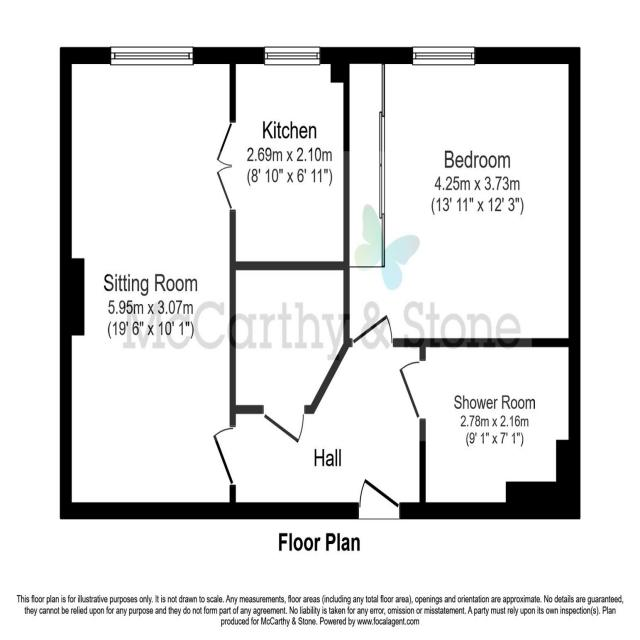DOOR: (357, 476, 402, 521), (397, 359, 426, 424), (262, 404, 306, 446), (211, 424, 237, 487), (351, 312, 395, 348)
DOUBLE DOOR: (215, 119, 236, 212)
ROOM: (59, 46, 237, 520), (330, 46, 581, 348), (215, 46, 351, 270)
WINDOW: (109, 45, 194, 67), (411, 45, 477, 67), (264, 45, 321, 67)
